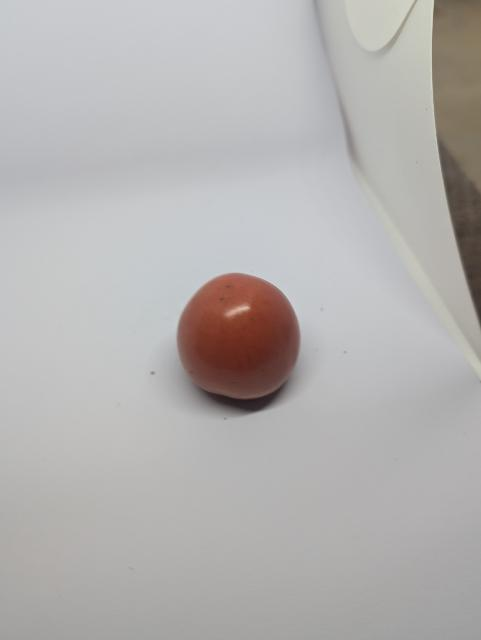red: (175, 267, 310, 410)
